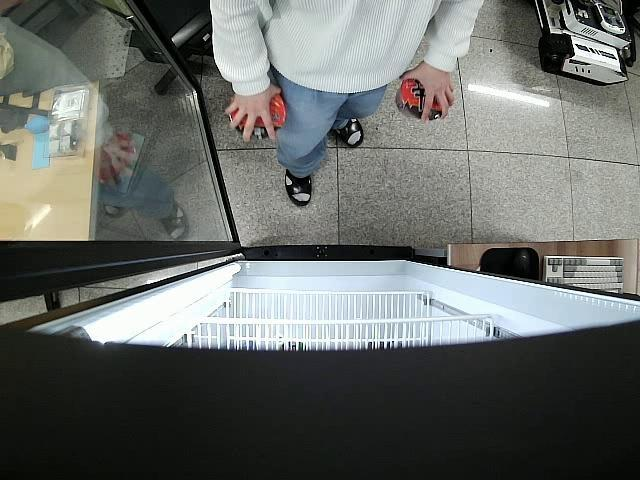01_ShinRamen_L: (229, 94, 287, 140), (396, 78, 448, 122)
